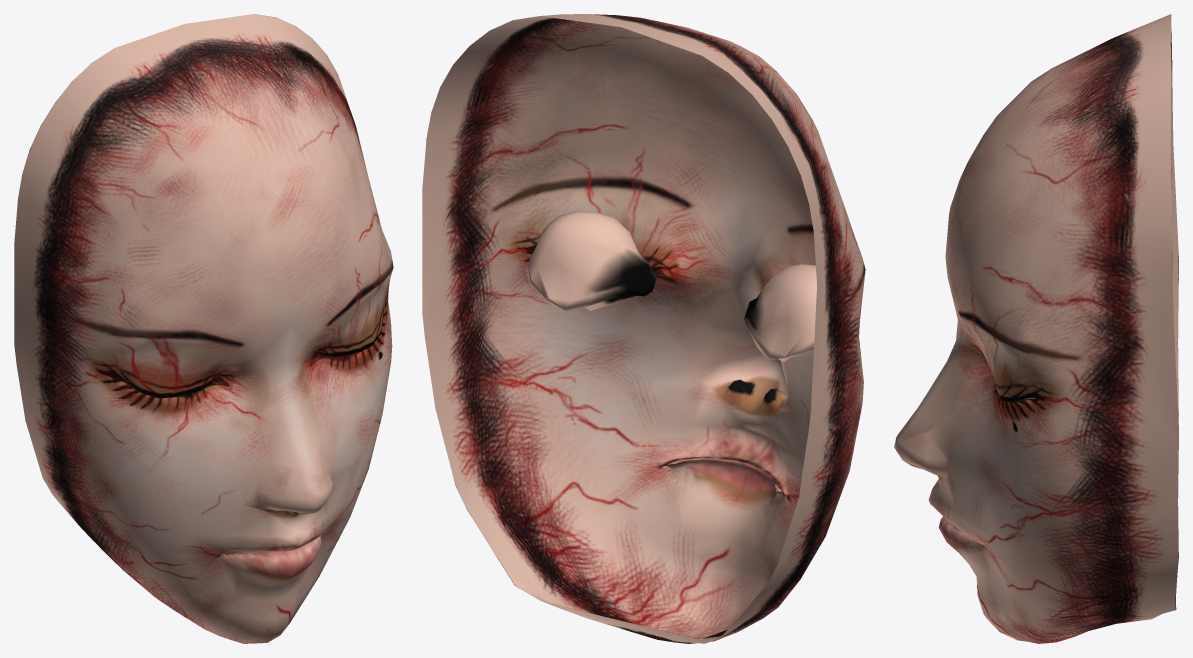
Rendered from 9F_Closed eyes.FBX.
The picture shows the model from 3 angles, left to right: view 1: azimuth 30°, elevation 25°; view 2: azimuth 150°, elevation 25°; view 3: azimuth 270°, elevation 25°; orthographic projection. The views are drawn at different scales.
Visible parts, largest first — view 1: Face00; view 2: Face00; view 3: Face00.
Part boxes in pixels (box(x1,y1,x2,y2)): Face00: box(14, 14, 393, 643); Face00: box(422, 14, 865, 643); Face00: box(894, 14, 1178, 643).
Size of the model in its own units: 109 by 175 by 76.2.
